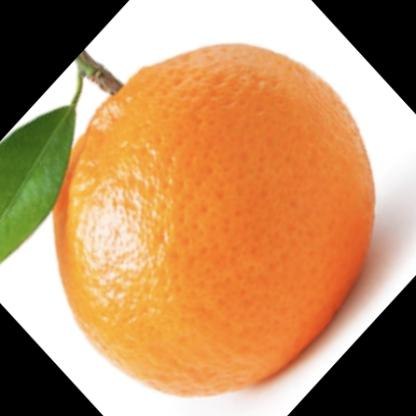fresh: (54, 42, 374, 397)
